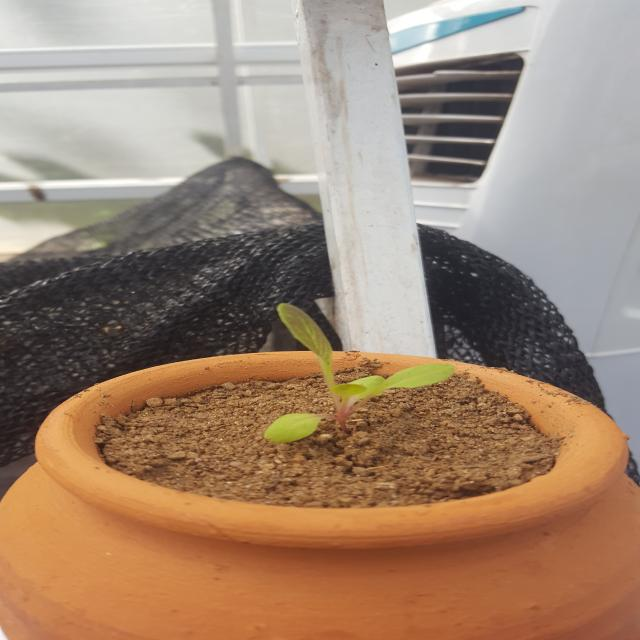Lettuce-Not-Ready-to-Harvest: (270, 304, 454, 442)
